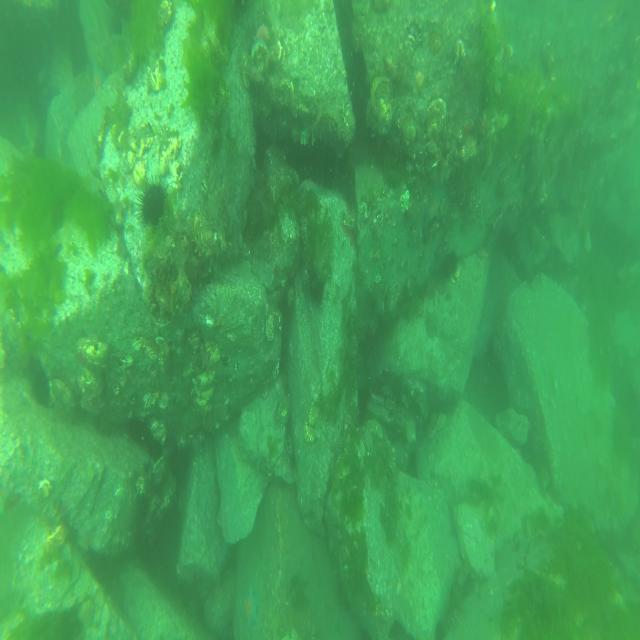echinus: (133, 167, 172, 232), (29, 366, 52, 408), (439, 248, 460, 283), (307, 277, 328, 311)
starfish: (239, 585, 260, 631), (89, 62, 107, 98)
